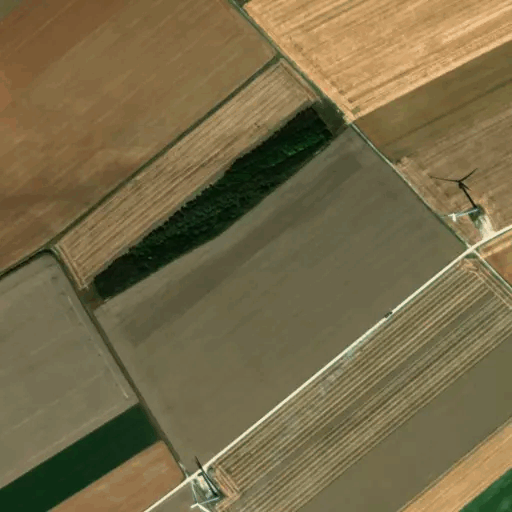wt: (422, 167, 486, 227), (180, 468, 233, 512)
